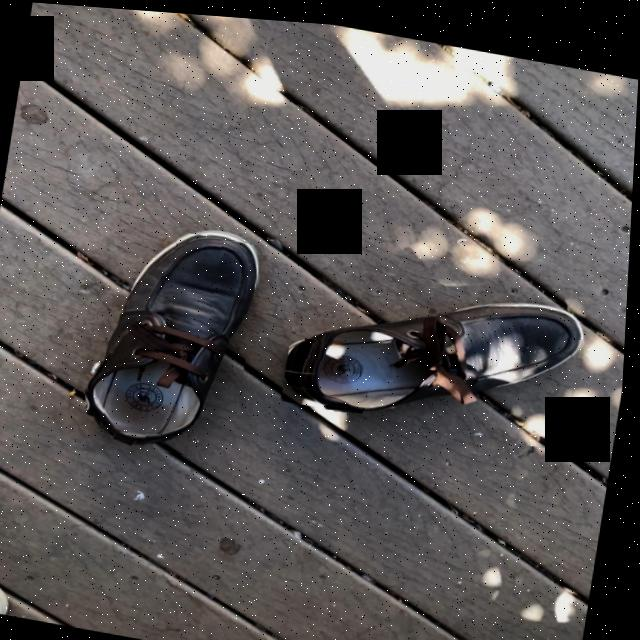shoe: (88, 233, 261, 443), (288, 298, 587, 407)
